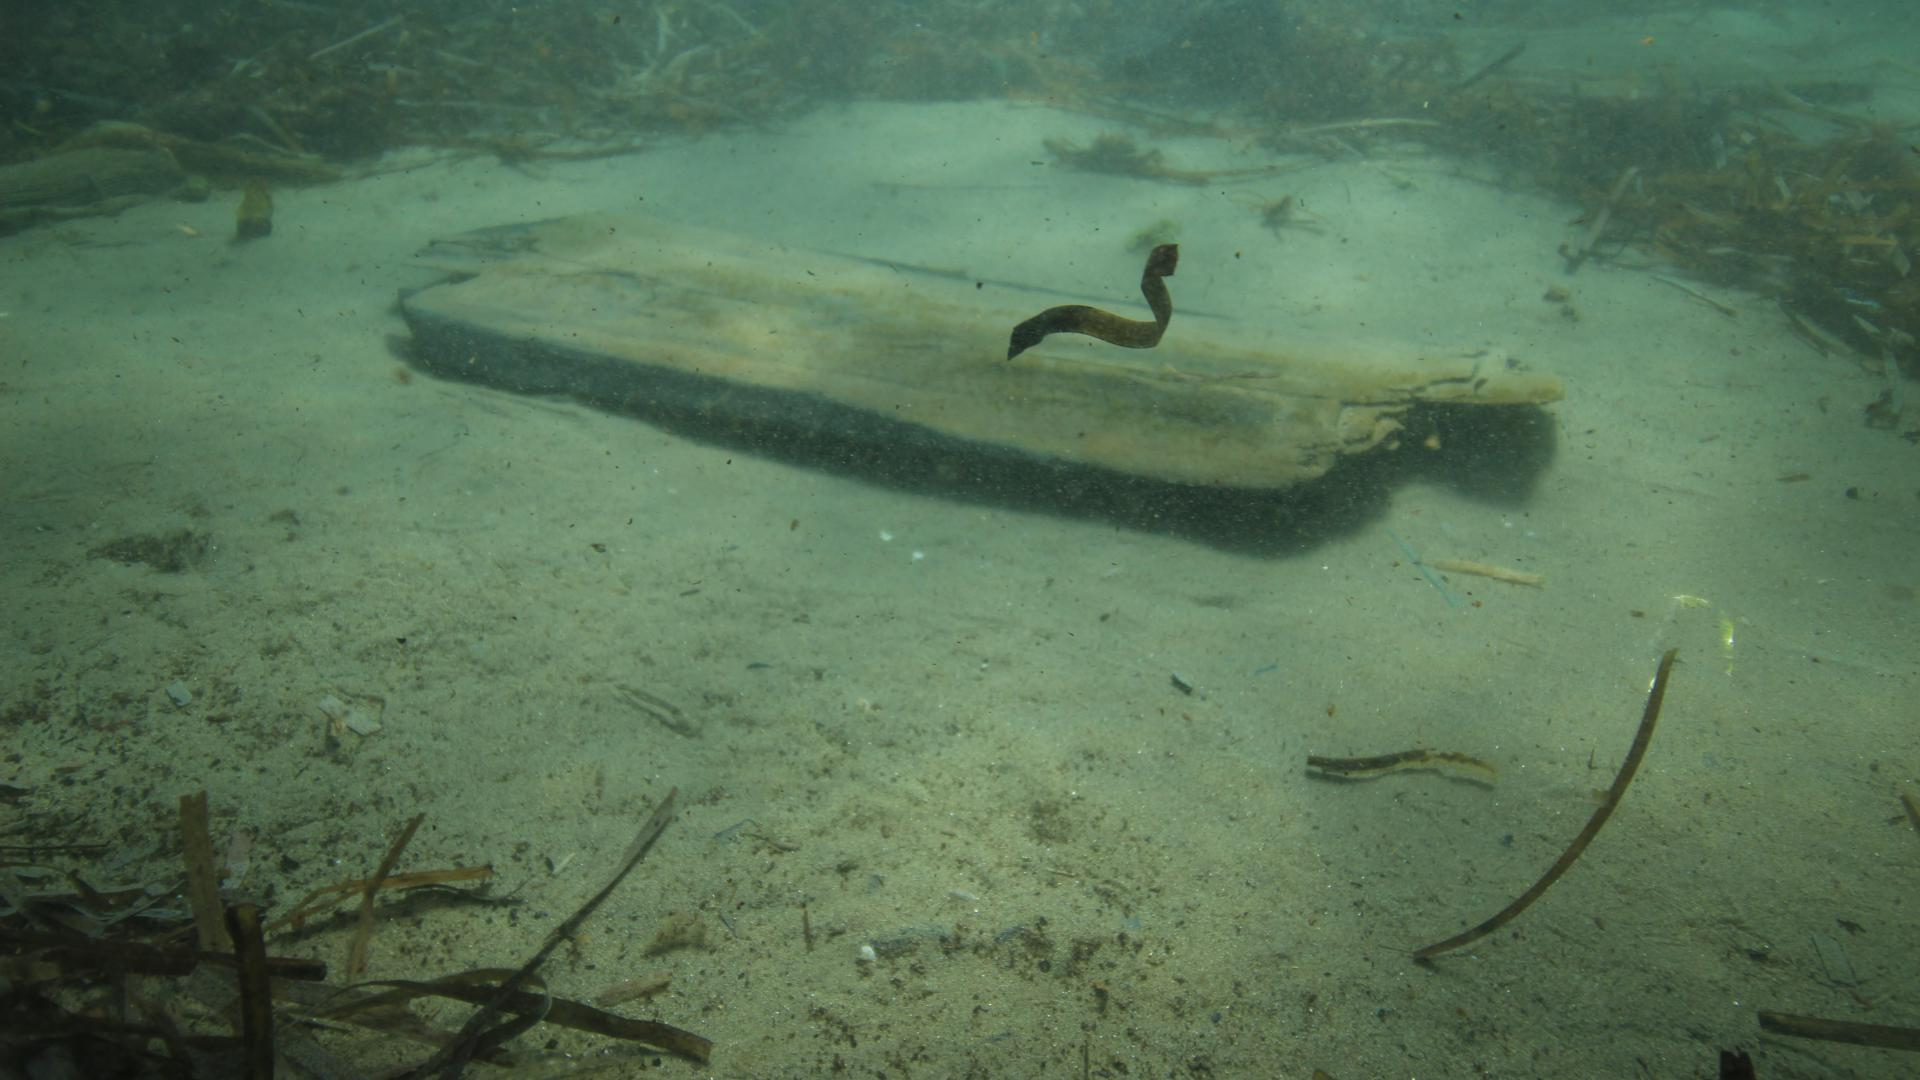wood: (398, 208, 1565, 491)
